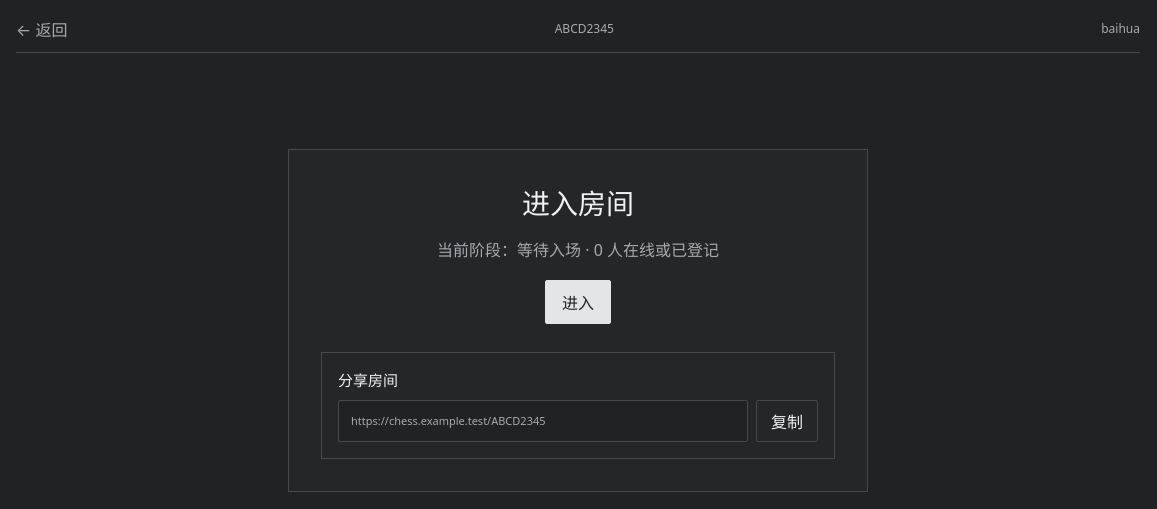
room board interactions › returns from the room entry screen to username selection
Click the button "← 返回": (42, 28) [16,16,67,40]
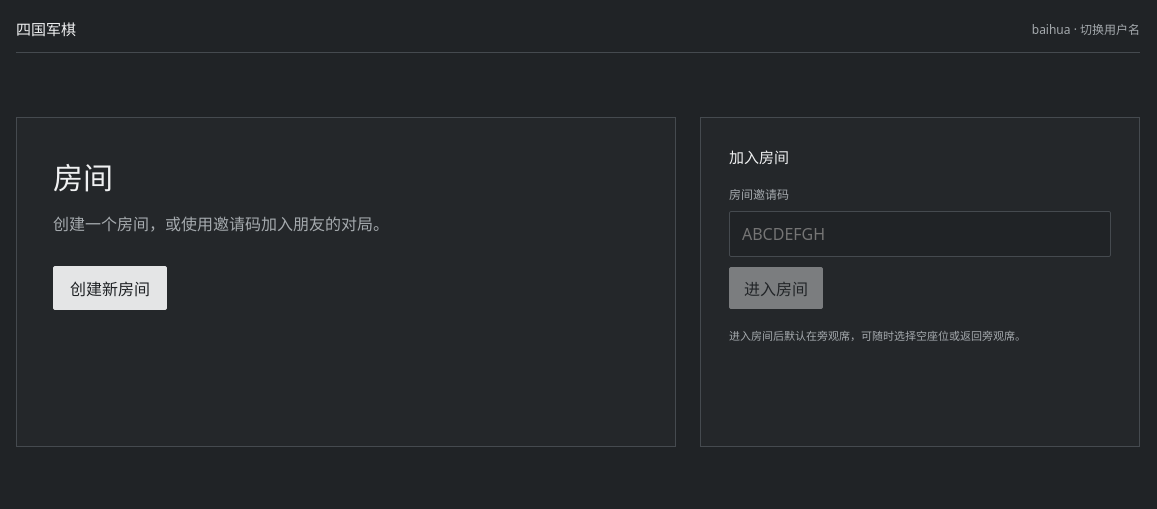
Result: the element with class "home-grid" is shown
